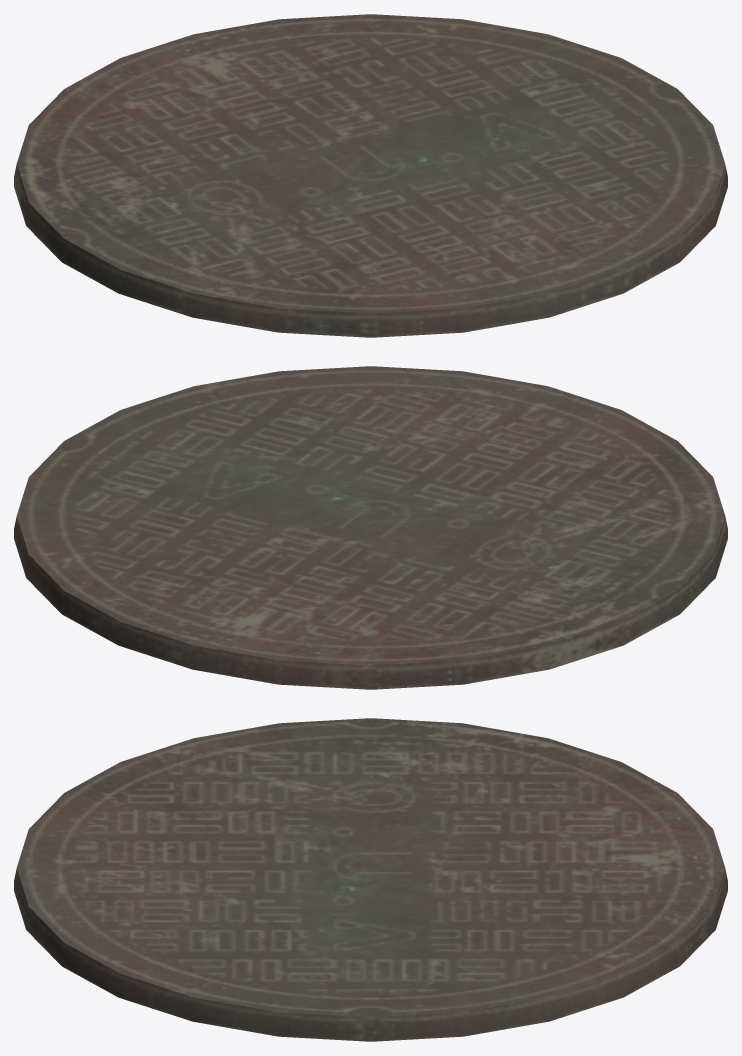
The model's file is Prop_ManholeCover.gltf.
3 views of the same model, one above another, from view 1: azimuth 30°, elevation 25°; view 2: azimuth 150°, elevation 25°; view 3: azimuth 270°, elevation 25° (orthographic).
Visible parts, largest first — view 1: Prop_ManholeCover; view 2: Prop_ManholeCover; view 3: Prop_ManholeCover.
Boxes of the visible parts, x1,y1,x2,y2 form: Prop_ManholeCover: (14, 14, 727, 337); Prop_ManholeCover: (14, 366, 727, 689); Prop_ManholeCover: (14, 718, 727, 1041).
Size of the model in its own units: 0.9251 by 0.033 by 0.9251.
Materials: 1 (1 with a texture image).
